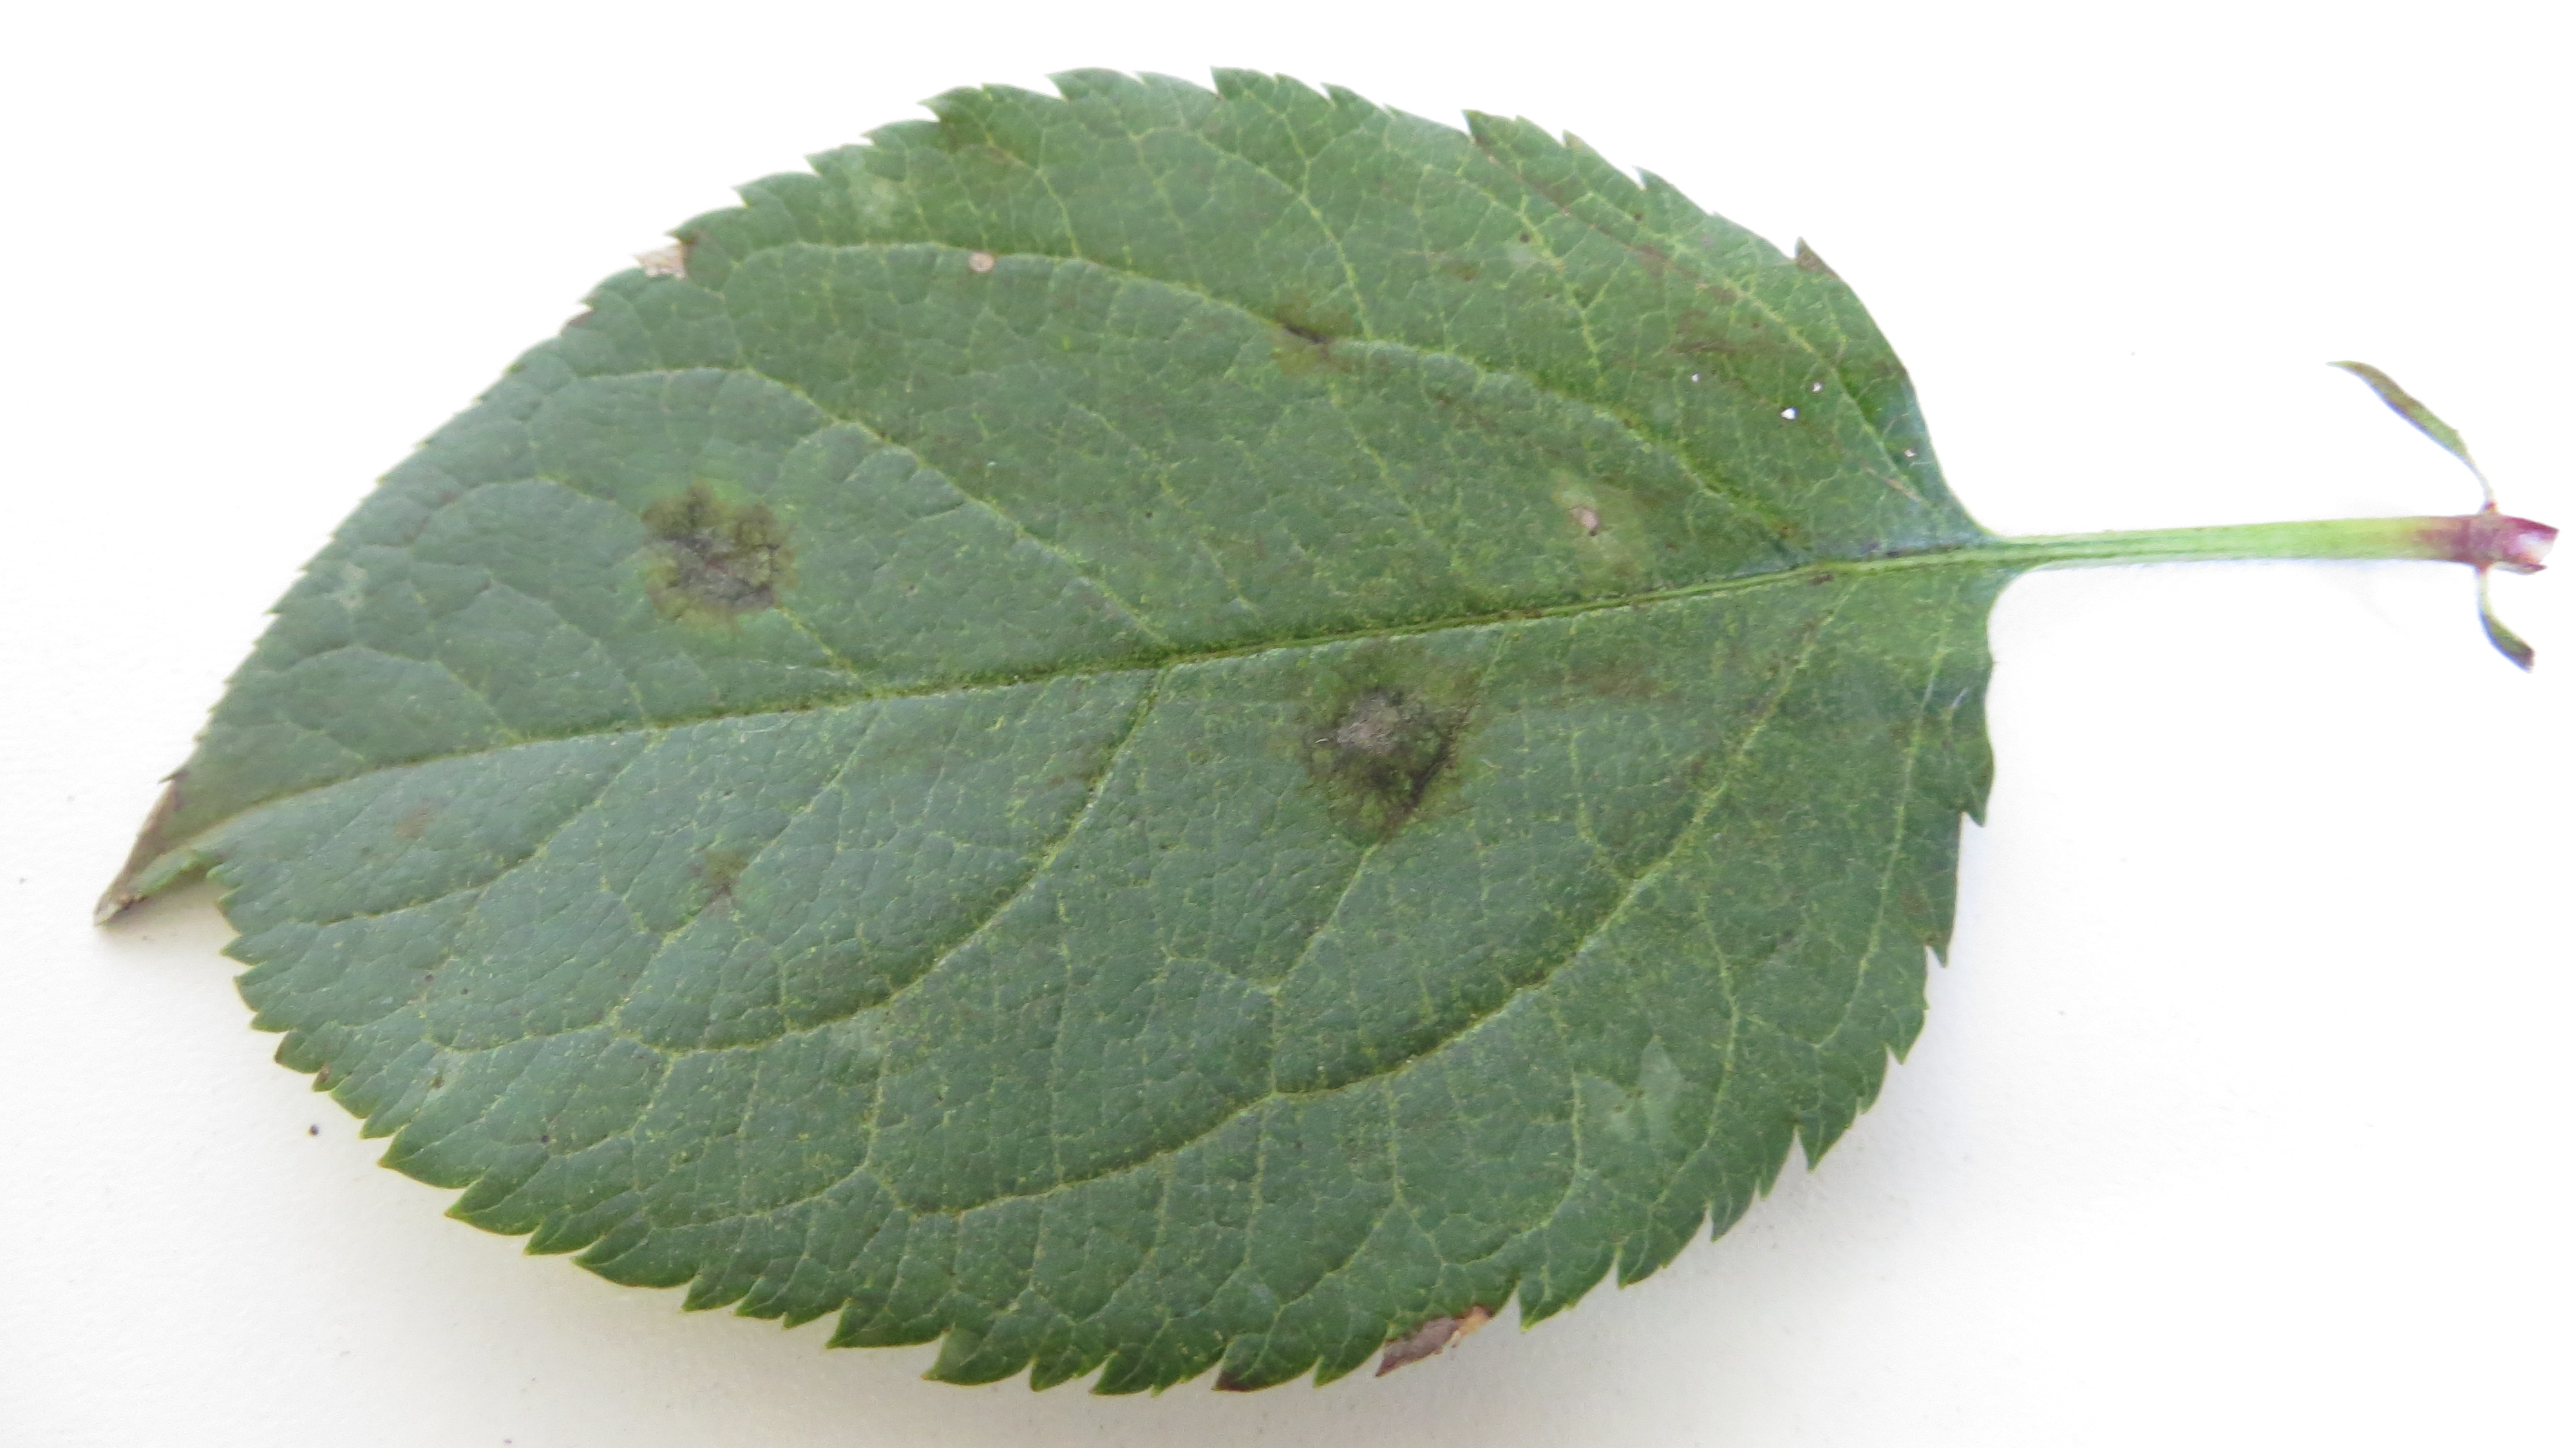sarna: (1284, 641, 1477, 836), (632, 458, 801, 634), (1534, 628, 1697, 729), (1649, 297, 1790, 398), (660, 818, 768, 933), (1272, 285, 1364, 379), (372, 779, 469, 857)
